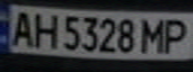2: (96, 15, 121, 54)
3: (78, 14, 100, 53)
5: (57, 12, 81, 52)
8: (115, 16, 139, 54)
A: (6, 8, 36, 47)
H: (27, 10, 60, 49)
M: (139, 16, 172, 54)
P: (157, 16, 193, 53)
